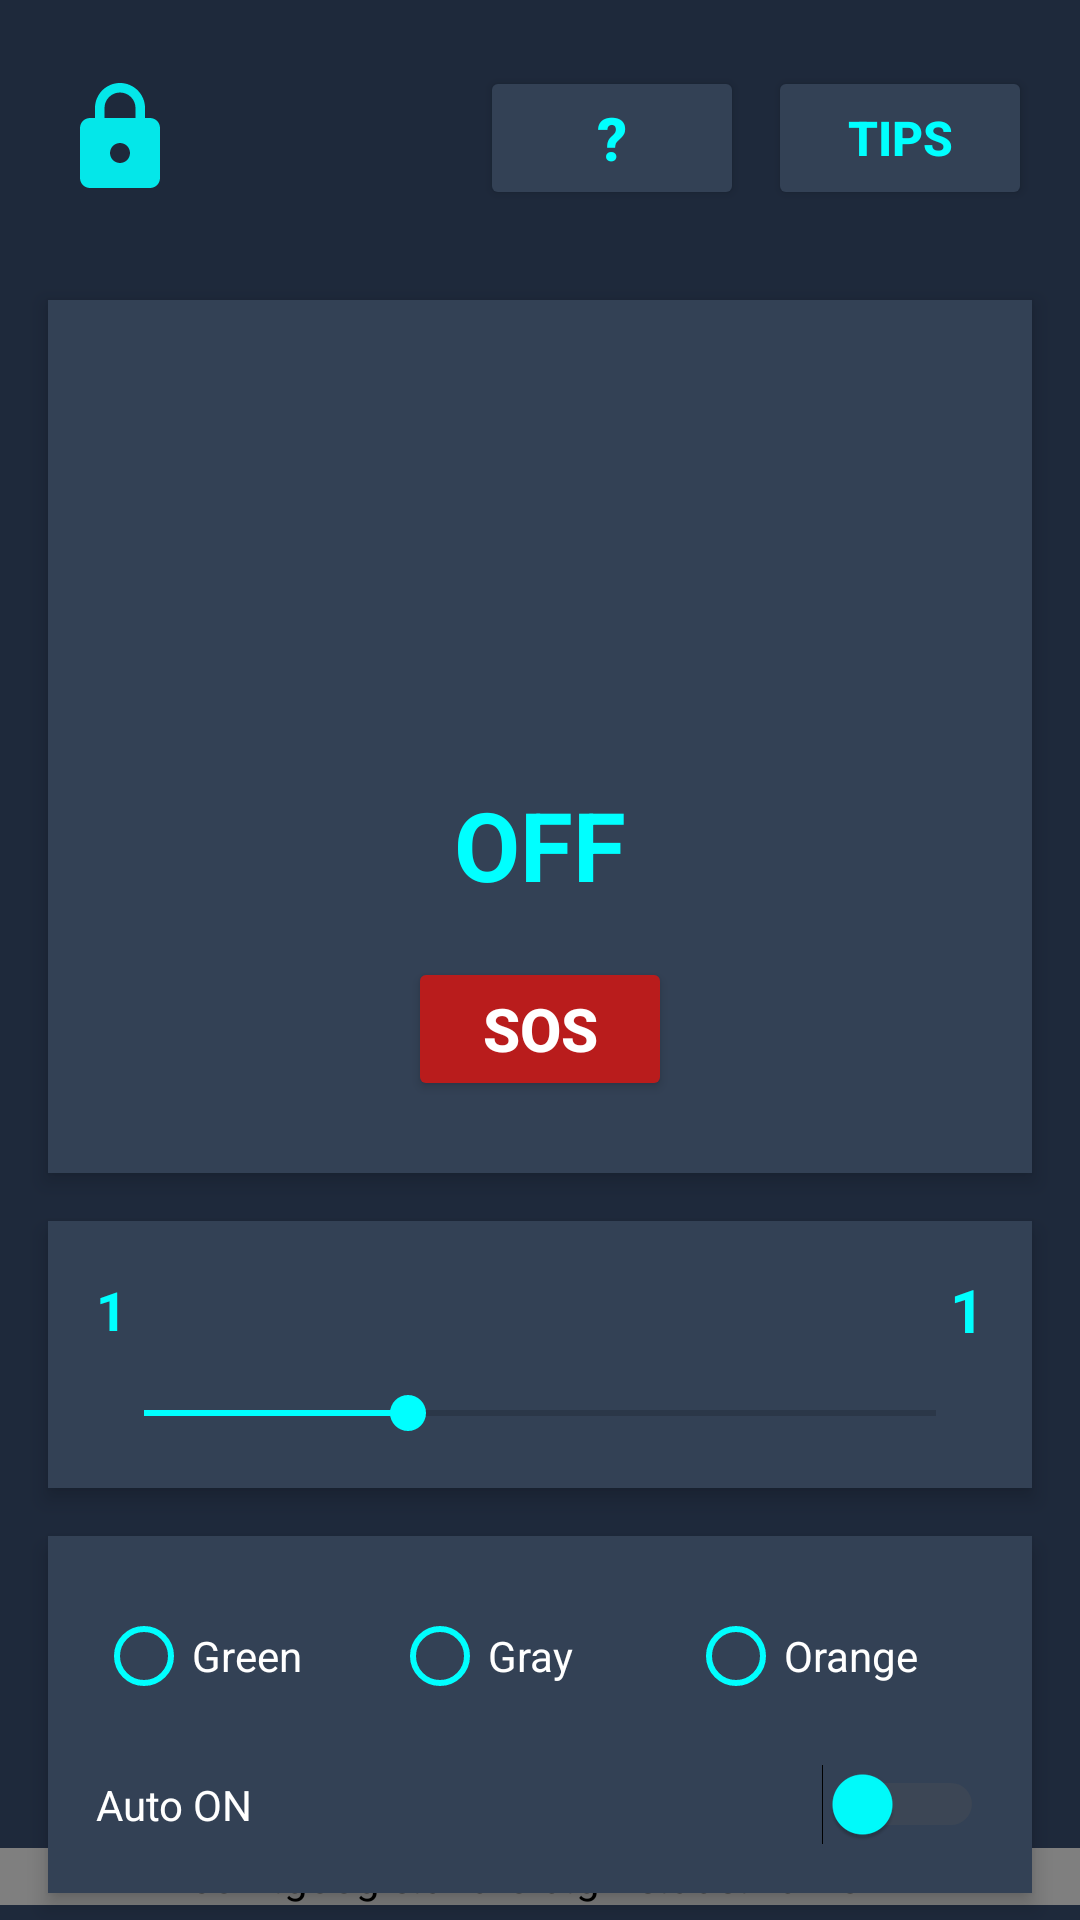

Screen size 1080px x 1920px. Icon name, then its center in pixels as (x,y):
lock: (120,135)
